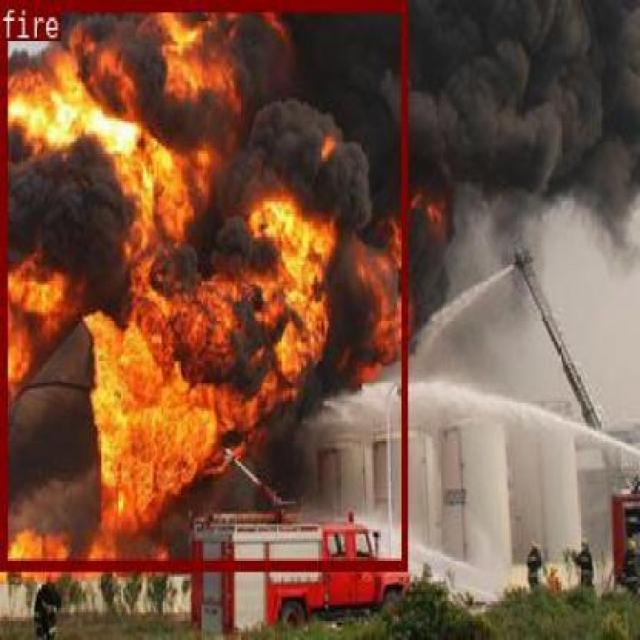Fire: (0, 0, 405, 569)
Smoke: (421, 13, 640, 228)
